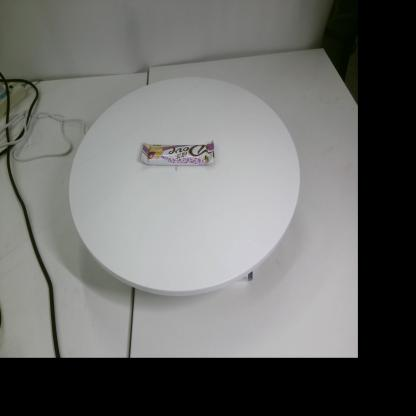Chocolate: (140, 140, 215, 166)
